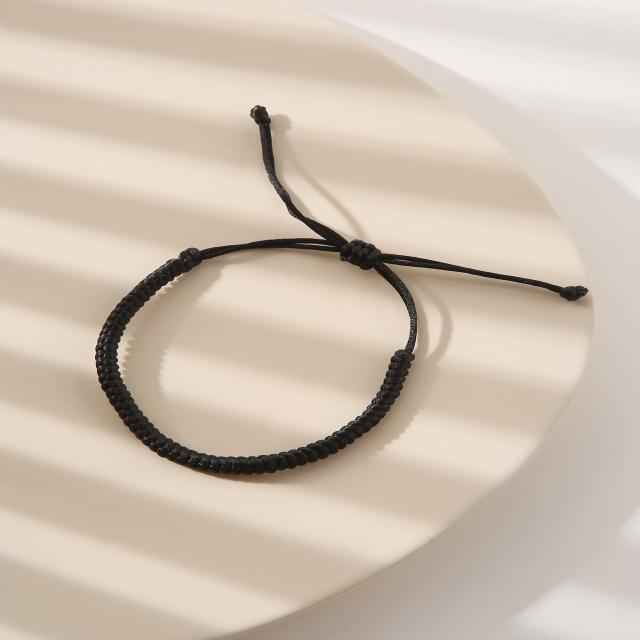bracelet: (8, 78, 640, 498)
